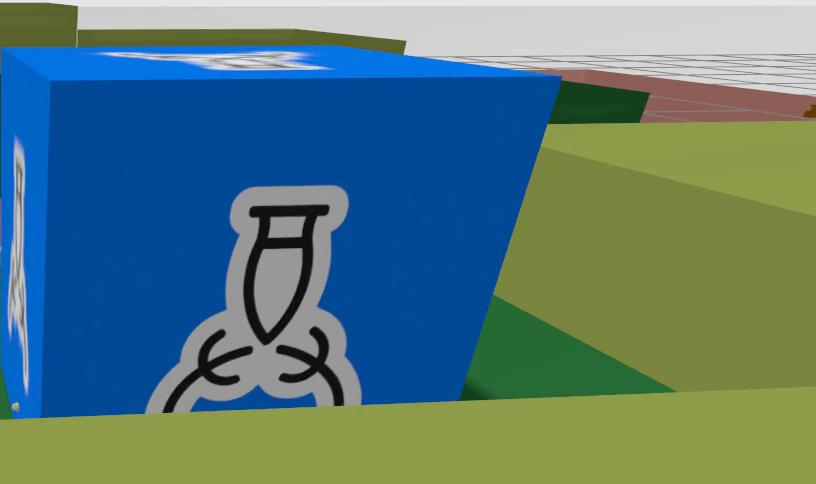KFS_REAL: (0, 47, 556, 417), (148, 186, 361, 412)
